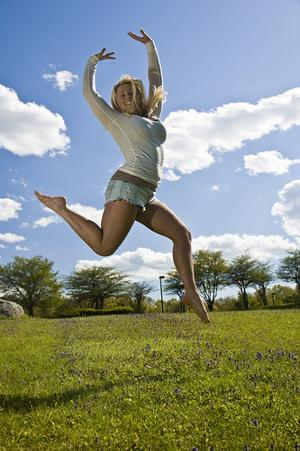person: (36, 29, 212, 331)
